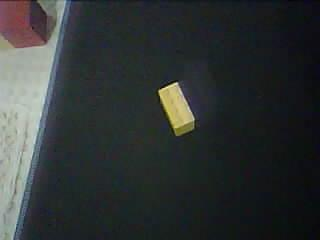lego: (156, 81, 195, 138)
